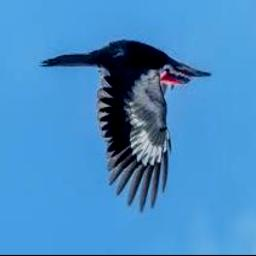Woodpecker: (39, 40, 212, 214)
